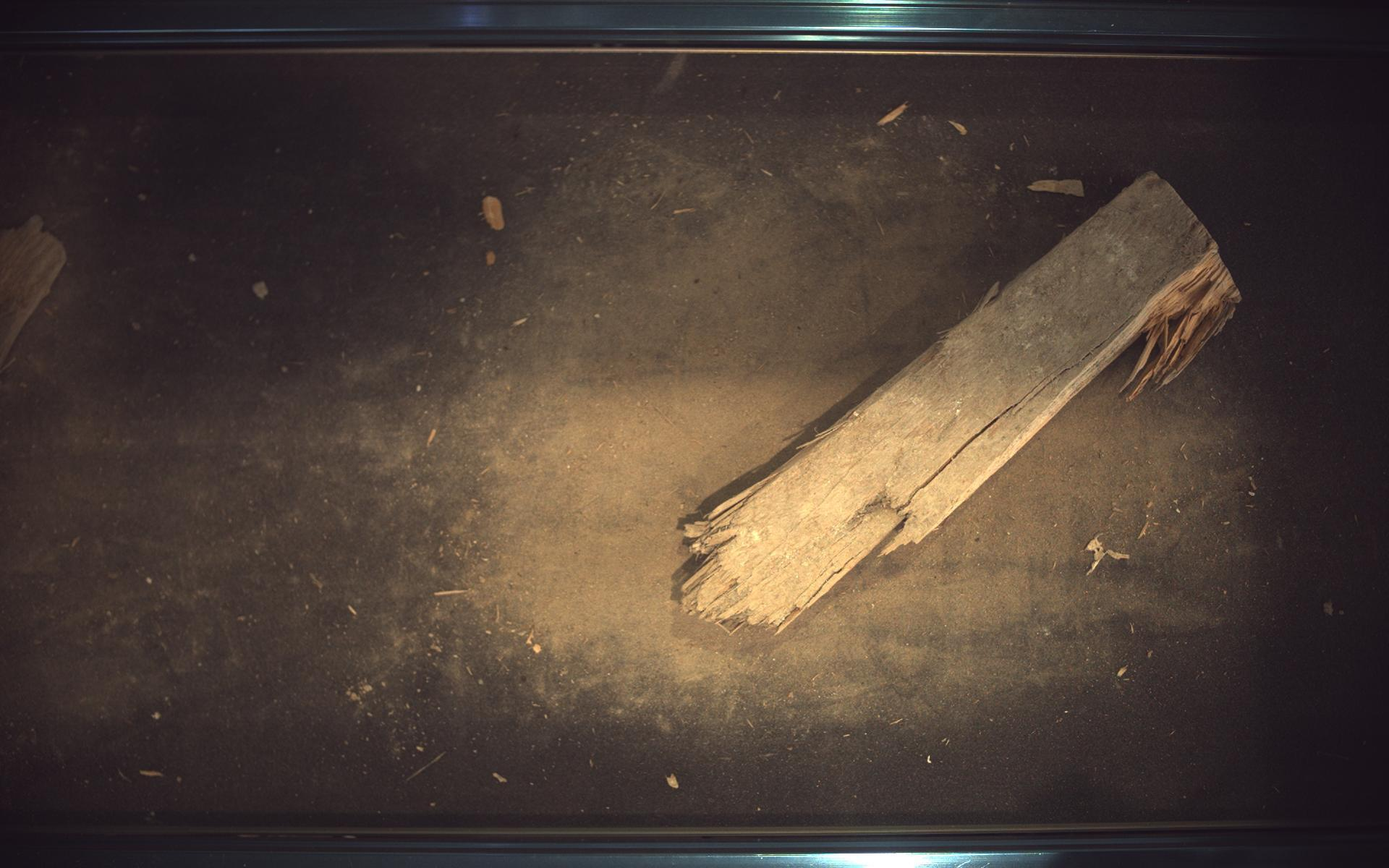wood: (681, 171, 1244, 633)
